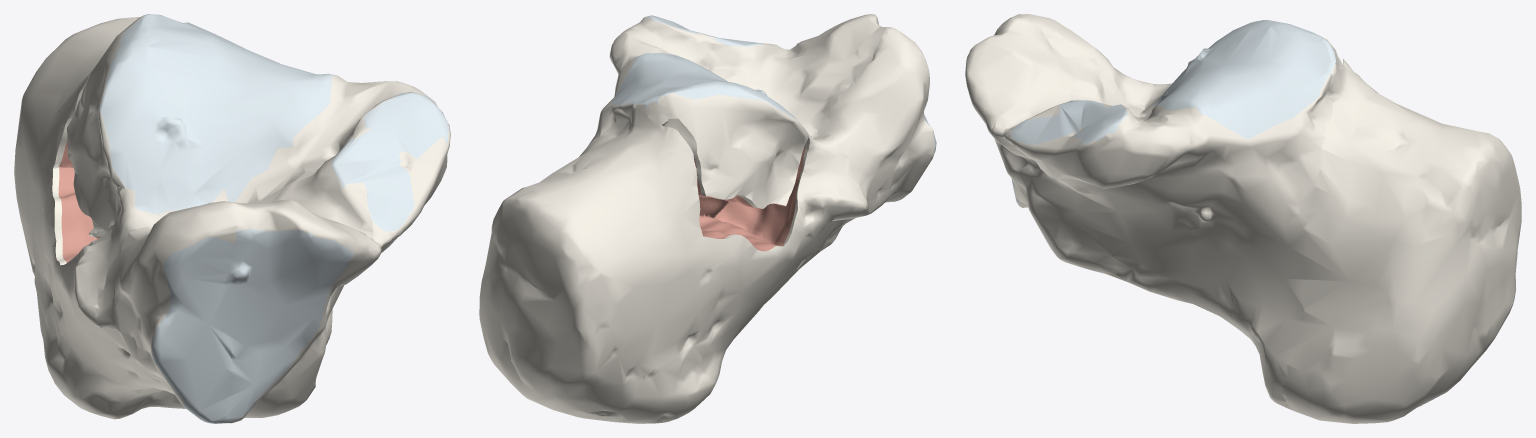
File: G-2A-AC_young.glb
3 renders of one model, left to right at view 1: azimuth 30°, elevation 25°; view 2: azimuth 150°, elevation 25°; view 3: azimuth 270°, elevation 25°, orthographic. The views are drawn at different scales.
Parts seen in each view (by area): view 1: calcaneus: sustentacular fragment, calcaneus: tuberosity, calcaneus: central anterior process (zones B) fragment, calcaneus: anterolateral (zone A) fragment, calcaneus: depressed lateral joint fragment; view 2: calcaneus: tuberosity, calcaneus: depressed lateral joint fragment, calcaneus: anterolateral (zone A) fragment, calcaneus: central anterior process (zones B) fragment, calcaneus: sustentacular fragment; view 3: calcaneus: tuberosity, calcaneus: sustentacular fragment, calcaneus: central anterior process (zones B) fragment, calcaneus: anterolateral (zone A) fragment, calcaneus: depressed lateral joint fragment.
Part boxes in pixels (<box>): calcaneus: sustentacular fragment: <box>142,14,450,261</box>; calcaneus: tuberosity: <box>14,17,332,419</box>; calcaneus: central anterior process (zones B) fragment: <box>220,139,378,423</box>; calcaneus: anterolateral (zone A) fragment: <box>96,201,236,423</box>; calcaneus: depressed lateral joint fragment: <box>67,14,212,238</box>; calcaneus: tuberosity: <box>479,100,867,423</box>; calcaneus: depressed lateral joint fragment: <box>657,81,808,208</box>; calcaneus: anterolateral (zone A) fragment: <box>810,28,936,248</box>; calcaneus: central anterior process (zones B) fragment: <box>711,14,894,251</box>; calcaneus: sustentacular fragment: <box>588,15,788,145</box>; calcaneus: tuberosity: <box>1140,49,1521,423</box>; calcaneus: sustentacular fragment: <box>990,27,1336,407</box>; calcaneus: central anterior process (zones B) fragment: <box>965,18,1143,276</box>; calcaneus: anterolateral (zone A) fragment: <box>999,14,1151,108</box>; calcaneus: depressed lateral joint fragment: <box>1159,20,1337,102</box>.
Size of the model in its own units: 0.0475 by 0.0513 by 0.0757.
